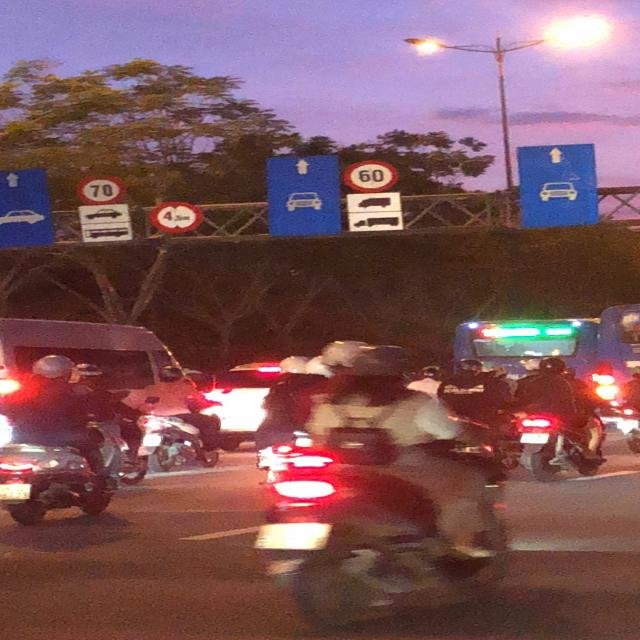Bien bao han che chieu cao: (147, 196, 206, 235)
Bien bao toc do toi da cho phep: (341, 157, 405, 196), (75, 174, 128, 205)
